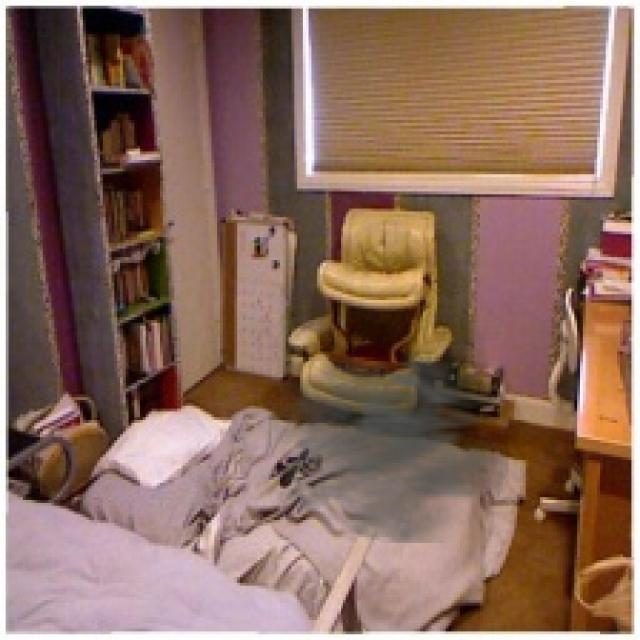Smoke: (248, 340, 508, 543)
